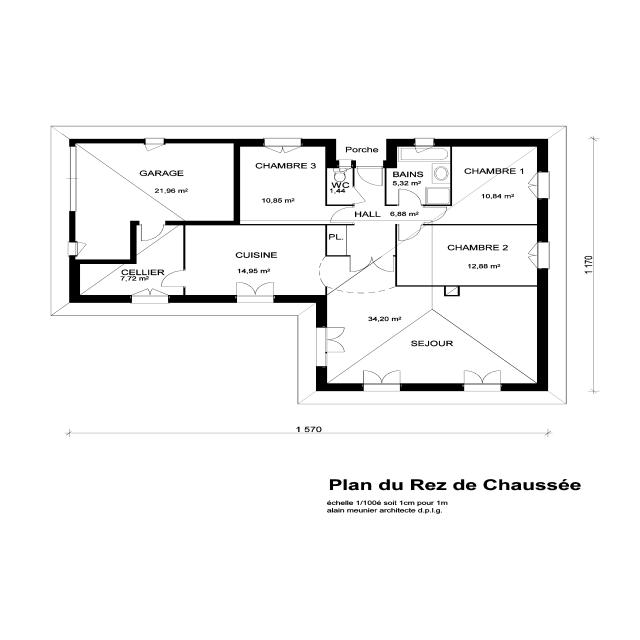door: (317, 323, 349, 363), (233, 279, 278, 299), (458, 368, 504, 387), (358, 368, 406, 386), (354, 164, 387, 188), (138, 222, 166, 242), (160, 268, 188, 288), (328, 206, 353, 225), (396, 188, 422, 206), (412, 139, 436, 156), (372, 255, 396, 272), (142, 138, 169, 153), (68, 240, 86, 256)
window: (532, 238, 550, 270), (532, 170, 550, 201), (127, 296, 173, 304)
zone: (325, 286, 544, 386), (75, 142, 237, 222), (182, 223, 329, 293), (394, 222, 540, 286), (237, 148, 329, 223), (451, 146, 538, 223), (73, 258, 184, 295), (388, 146, 451, 206), (129, 220, 180, 257), (326, 168, 354, 205)
